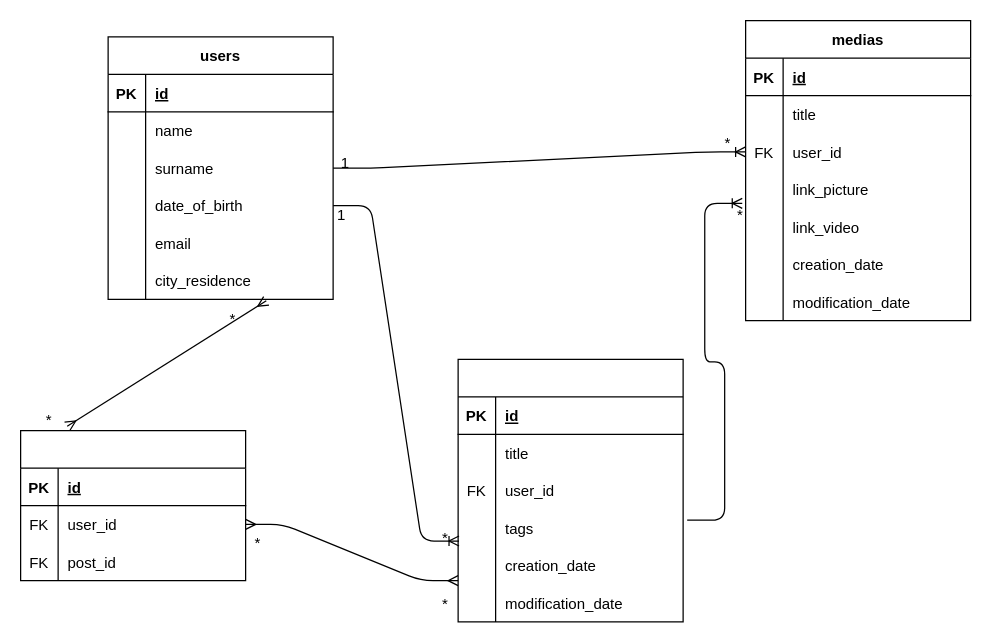
The diagram is 991 pixels wide and 643 high, and some of its shapes have lost their labels. Each missing label, with the box of its shape:
like_user_post: (19, 429, 246, 581)
posts: (457, 358, 683, 622)
